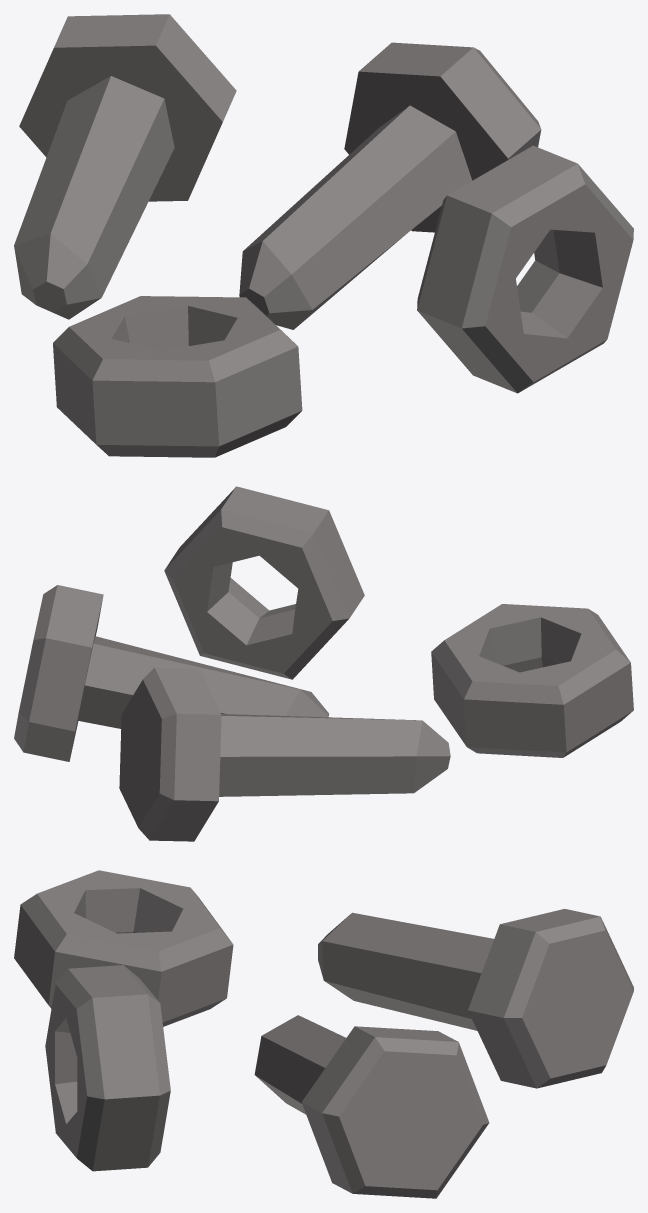
Rendered from bolts.glb.
The picture shows the model from 3 angles, top to bottom: view 1: azimuth 30°, elevation 25°; view 2: azimuth 150°, elevation 25°; view 3: azimuth 270°, elevation 25°; orthographic projection. The views are drawn at different scales.
Visible parts, largest first — view 1: bolts; view 2: bolts; view 3: bolts.
Boxes of the visible parts, x1=… form: bolts: x1=14, y1=14, x2=633, y2=457; bolts: x1=14, y1=486, x2=633, y2=841; bolts: x1=14, y1=870, x2=633, y2=1198.
Bounding box in the file's own units: 0.2212 × 0.0748 × 0.2309.
Materials: 1 (1 with a texture image).
